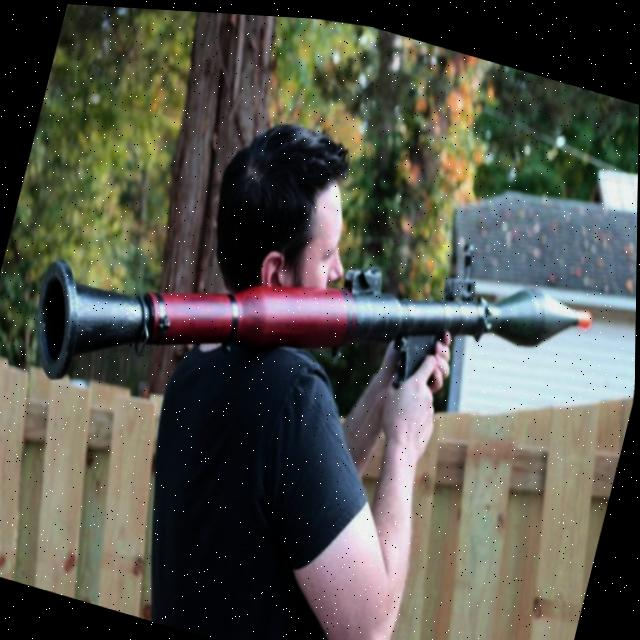rocket: (0, 137, 618, 527)
